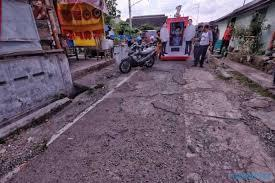Pothole: (209, 68, 264, 124), (119, 92, 193, 122), (138, 65, 172, 89)
